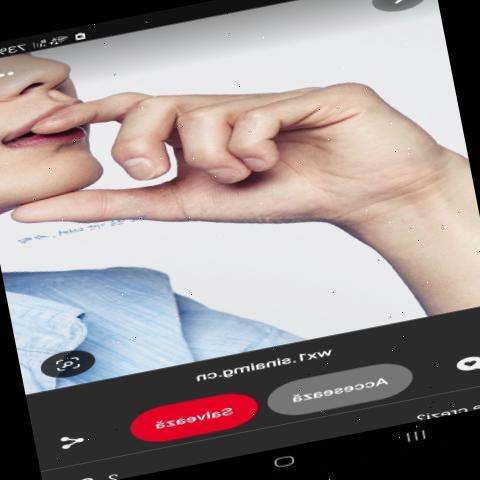Hands: (9, 24, 432, 306)
